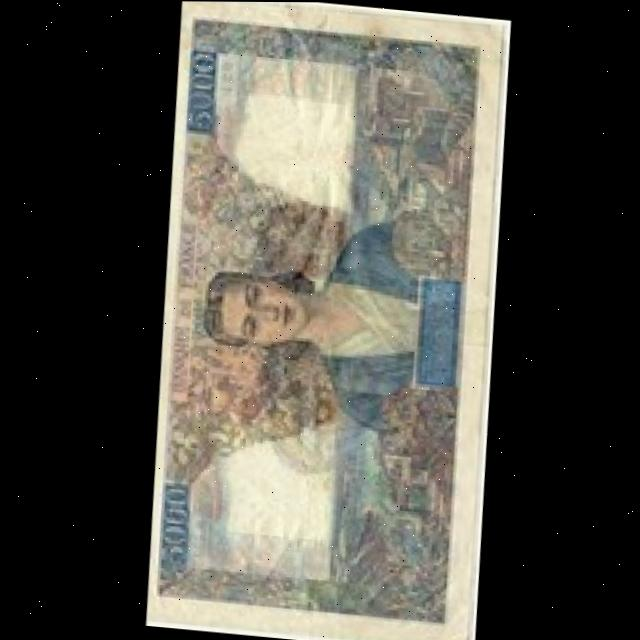banknote: (127, 1, 524, 640), (177, 41, 225, 140), (149, 481, 194, 568)
